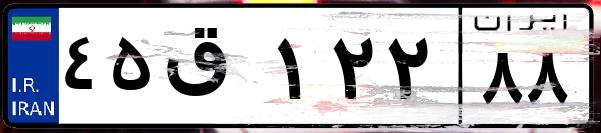1: (270, 28, 330, 110)
2: (385, 28, 445, 110), (330, 28, 385, 110)
4: (57, 26, 110, 100)
5: (110, 28, 158, 98)
8: (475, 38, 525, 113), (525, 38, 570, 115)
ق: (158, 20, 270, 120)
